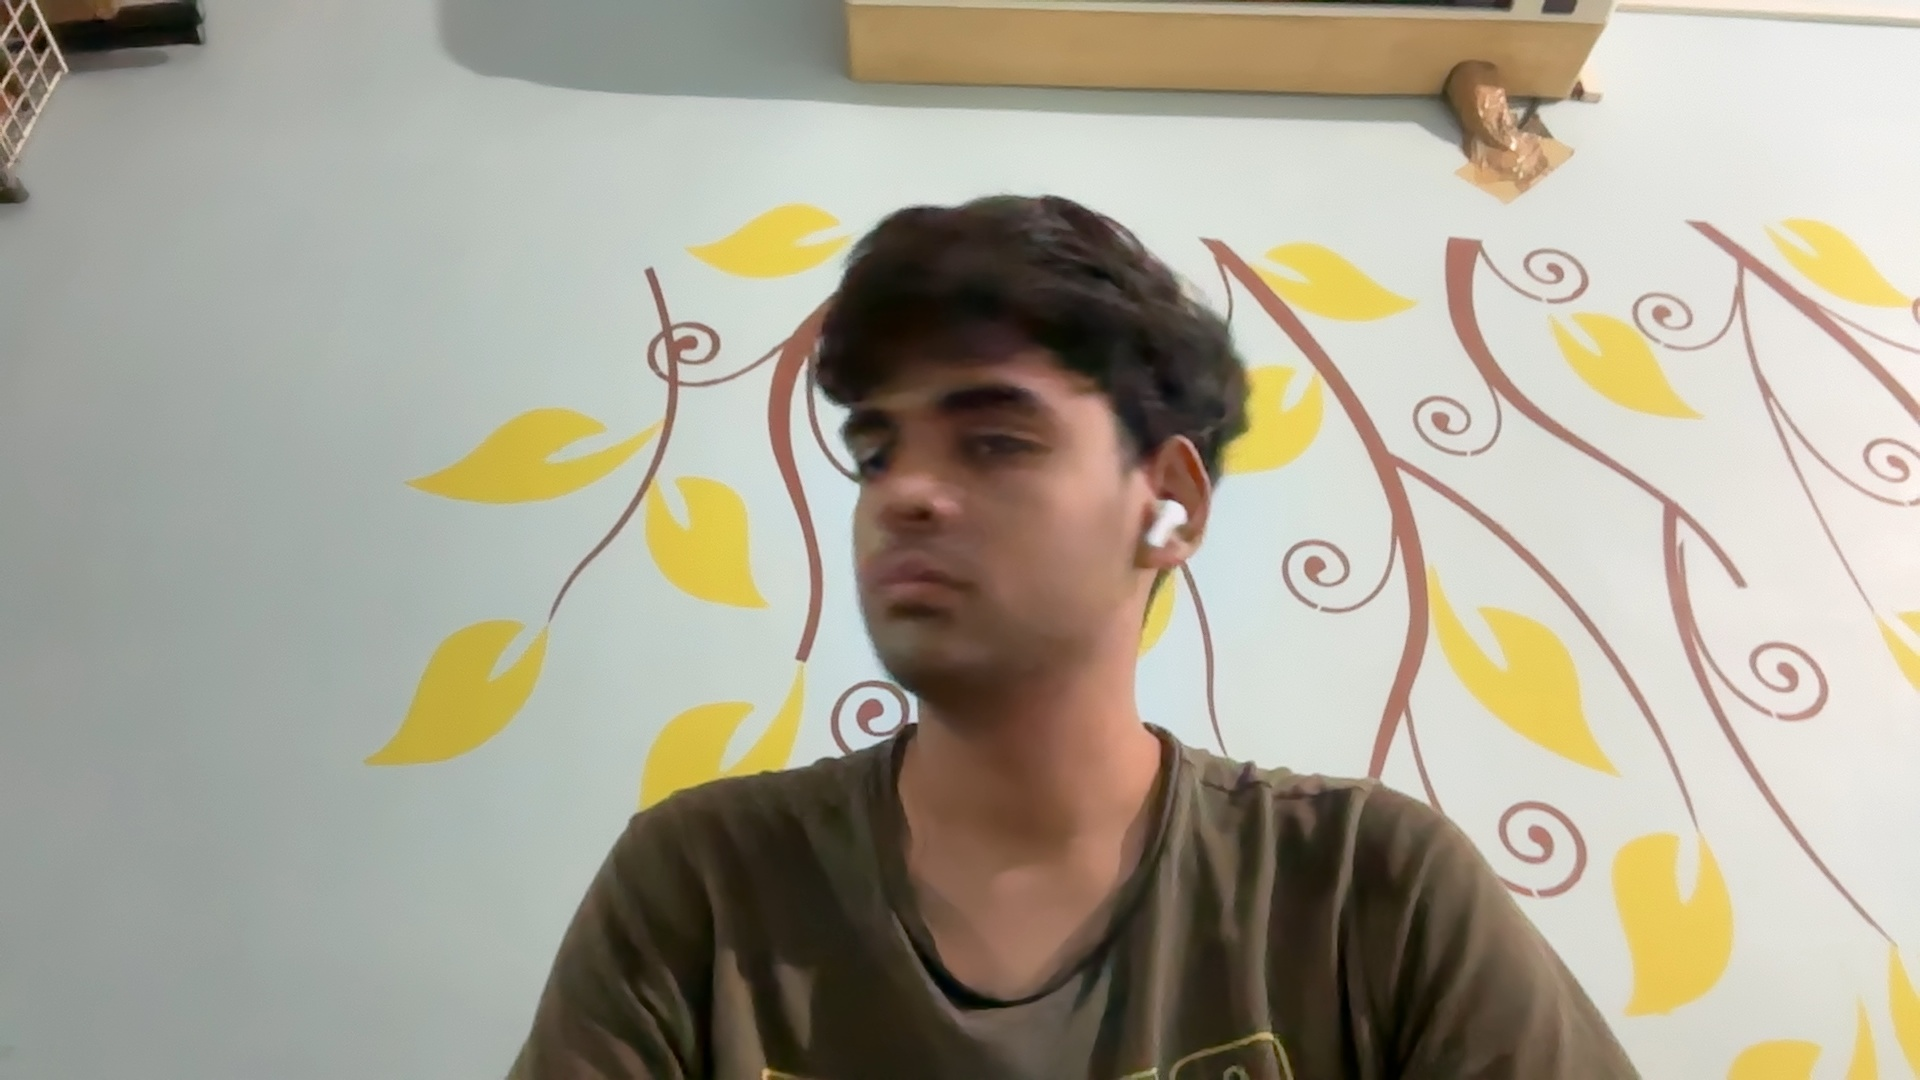No Mask: (845, 492, 1126, 688)
